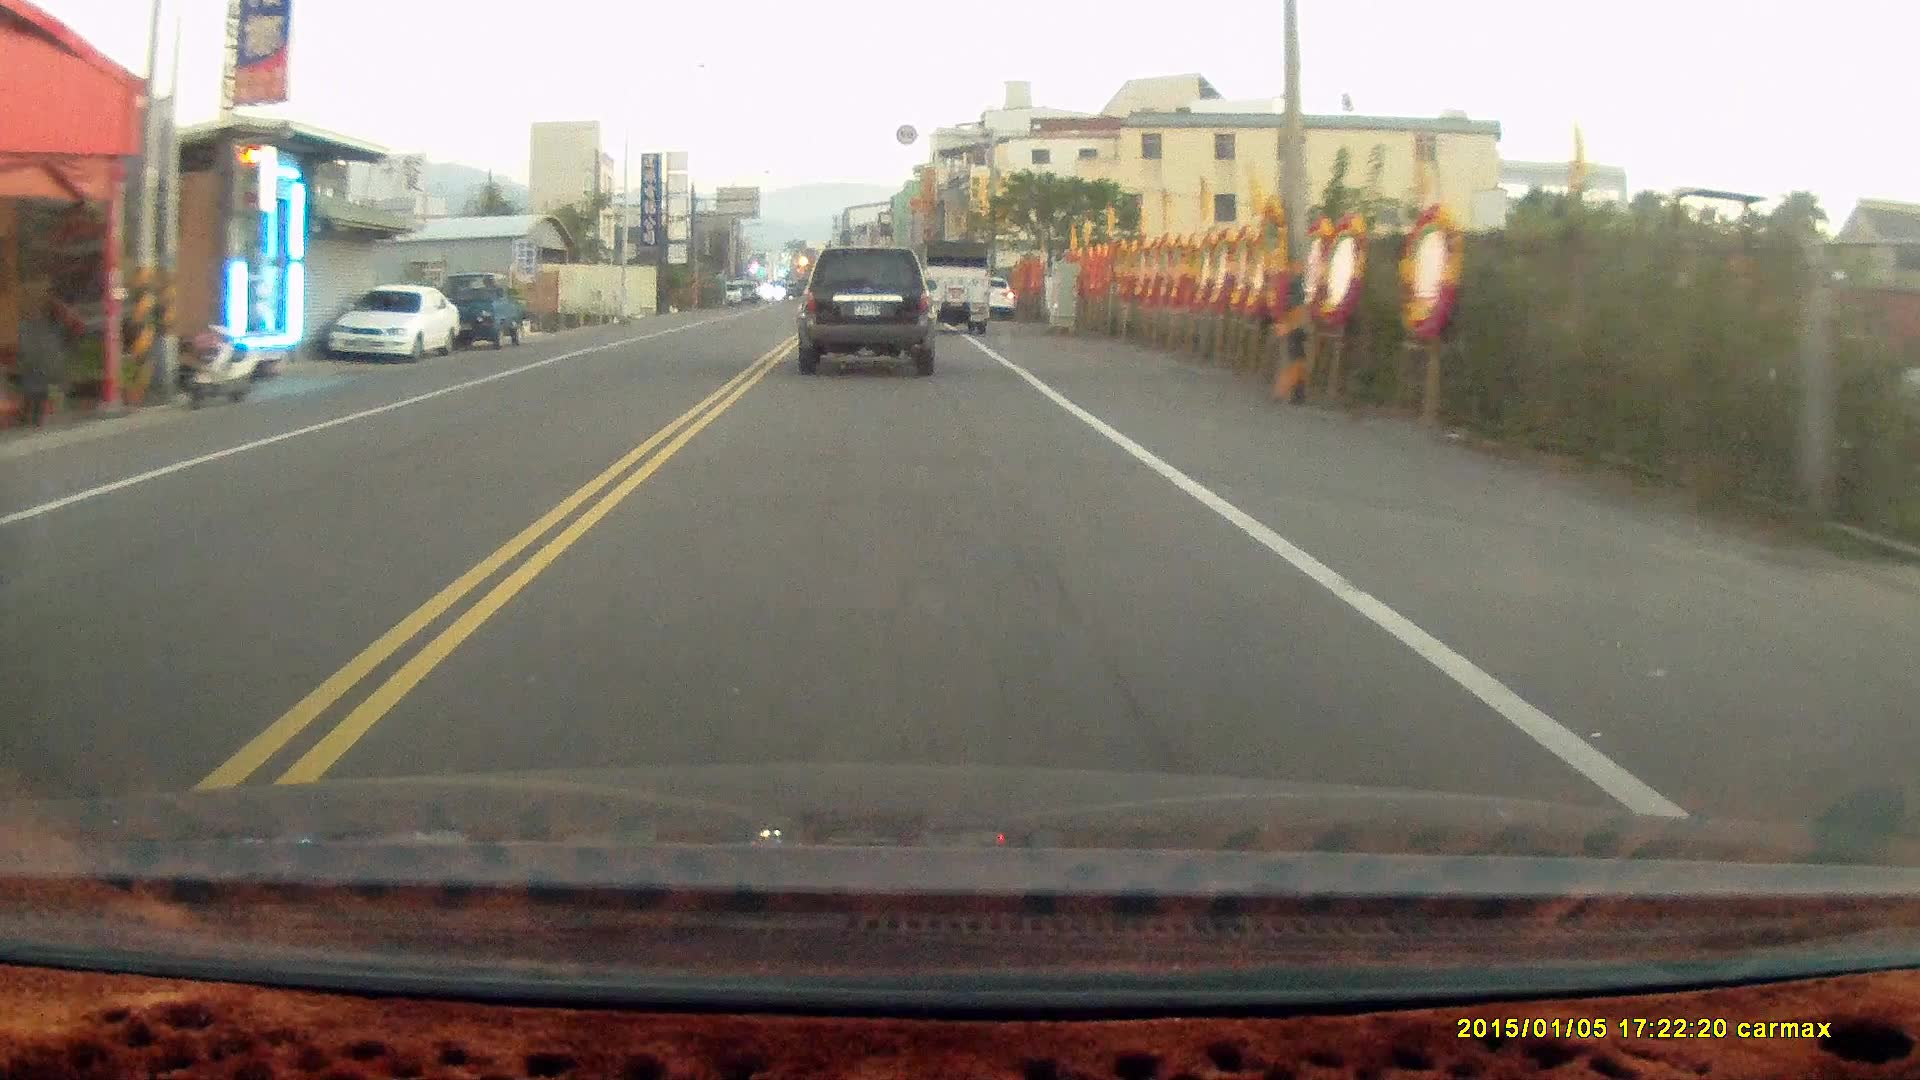vehicle: (800, 247, 942, 378), (330, 286, 464, 367), (438, 272, 533, 353), (922, 240, 994, 338)
